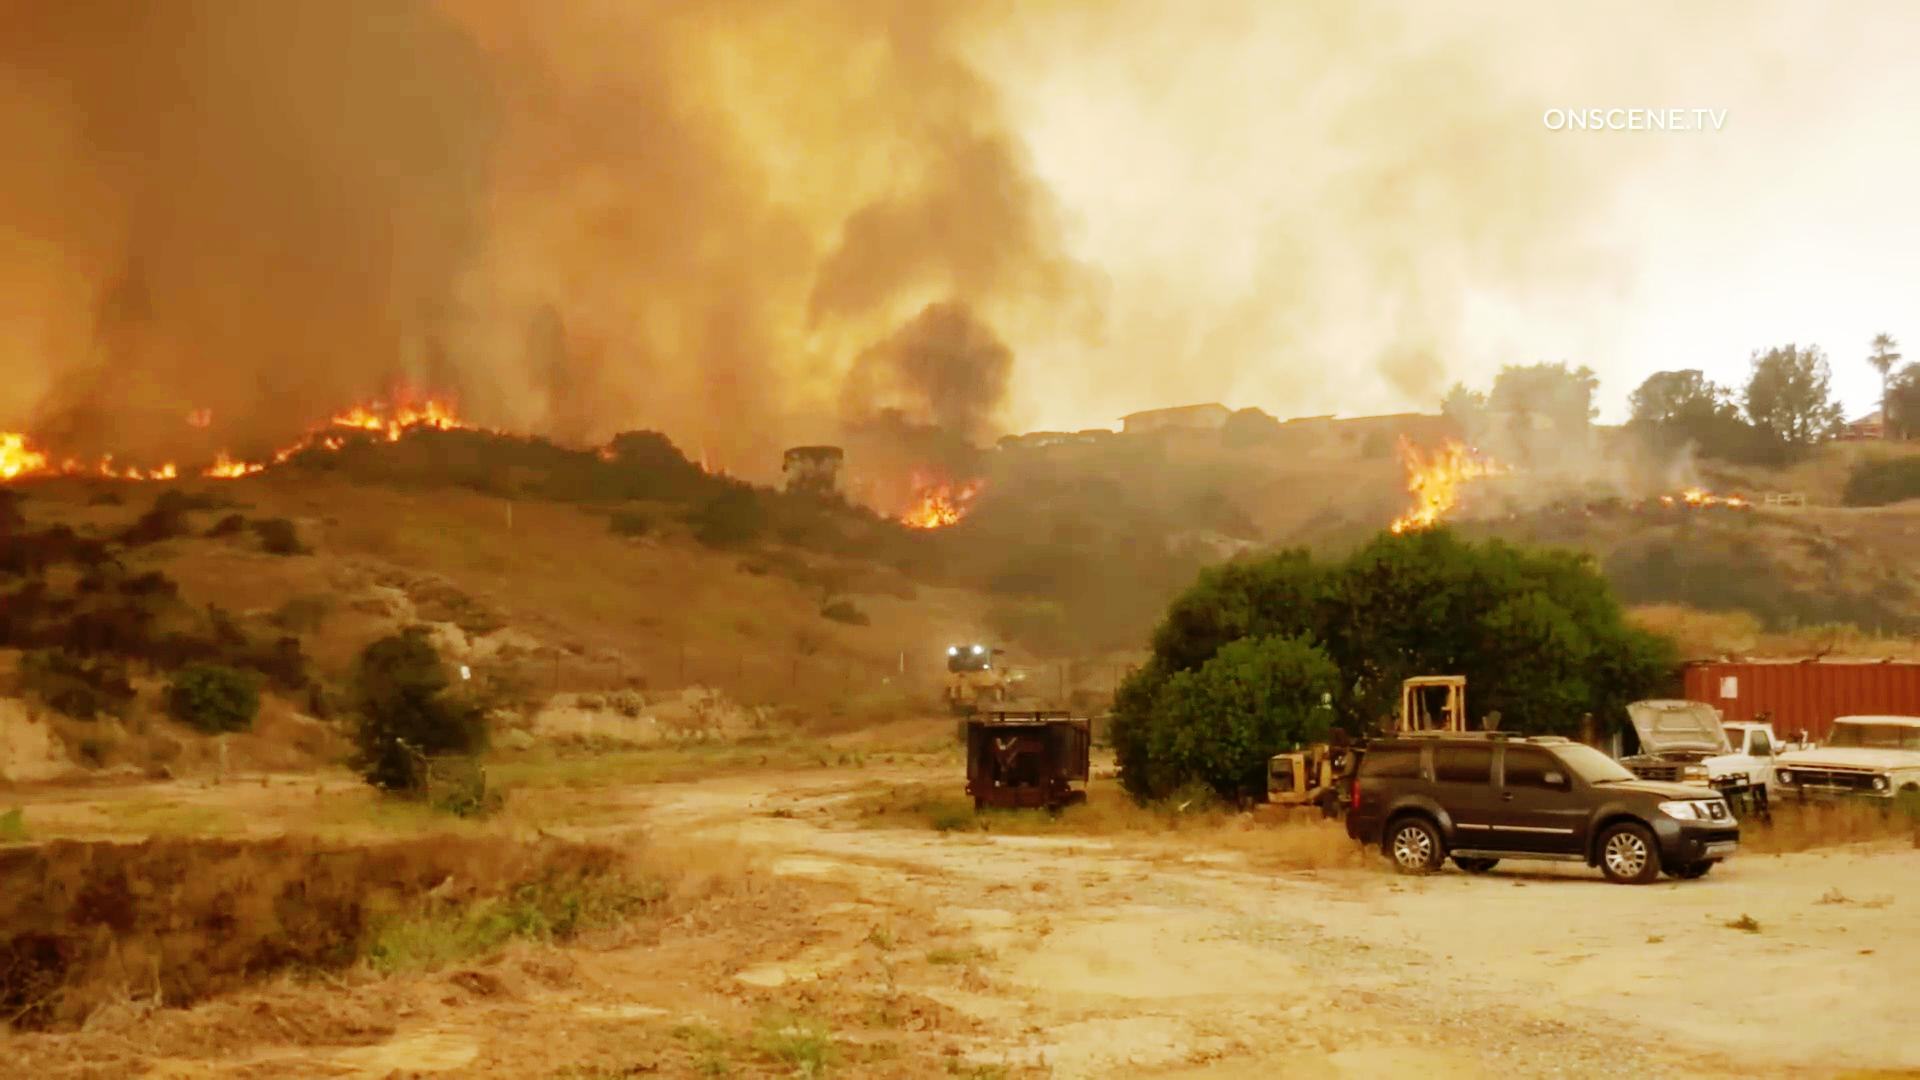fire: (1386, 401, 1493, 538), (895, 454, 978, 546)
smoke: (825, 44, 1039, 447)
